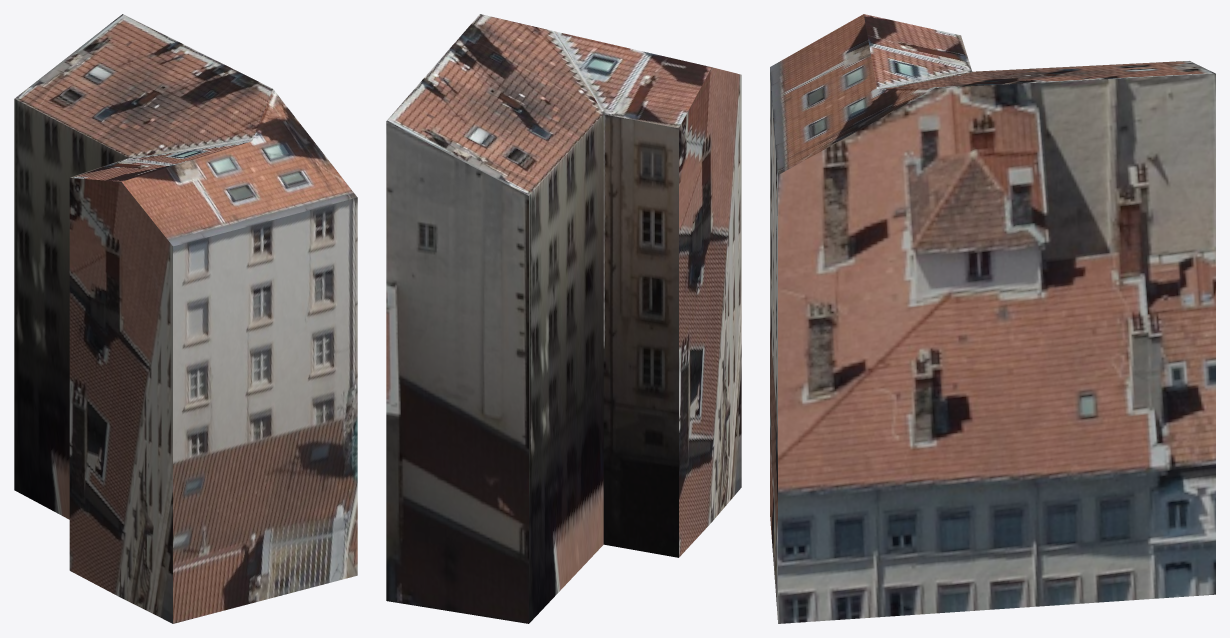
3 renders of one model, left to right at view 1: azimuth 30°, elevation 25°; view 2: azimuth 150°, elevation 25°; view 3: azimuth 270°, elevation 25°, orthographic. The views are drawn at different scales.
Visible parts, largest first — view 1: Z_UP; view 2: Z_UP; view 3: Z_UP.
Part boxes in pixels (left/top/right/bottom): Z_UP: left=14, top=14, right=357, bottom=623; Z_UP: left=386, top=14, right=741, bottom=623; Z_UP: left=770, top=14, right=1215, bottom=623.
Size of the model in its own units: 13.27 by 26.61 by 20.47.
Materials: 2 (1 with a texture image).
